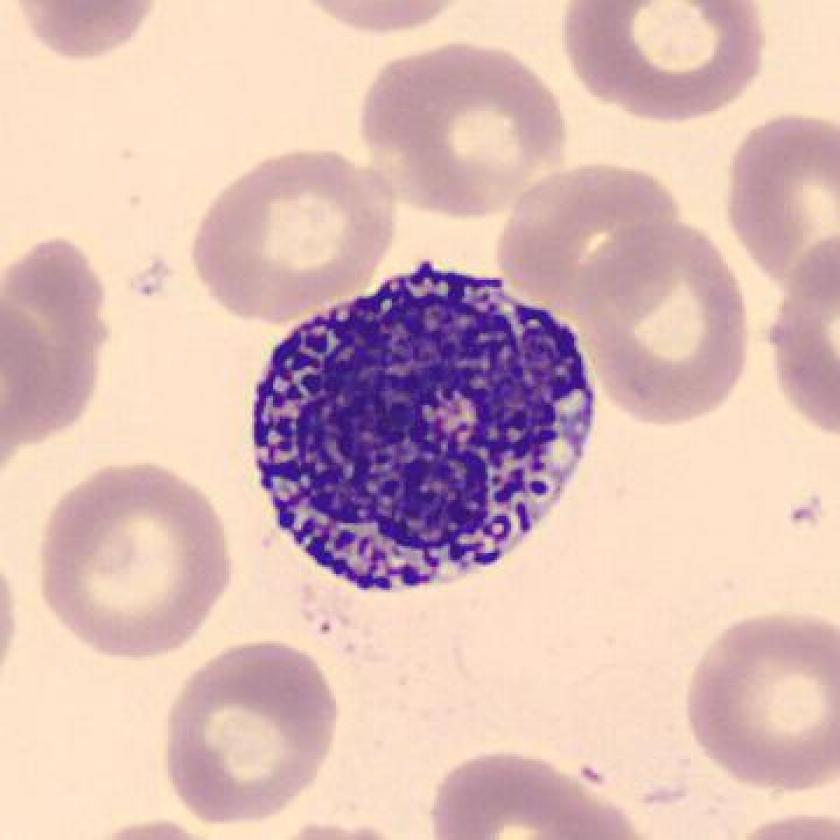basophil: (232, 251, 605, 603)
